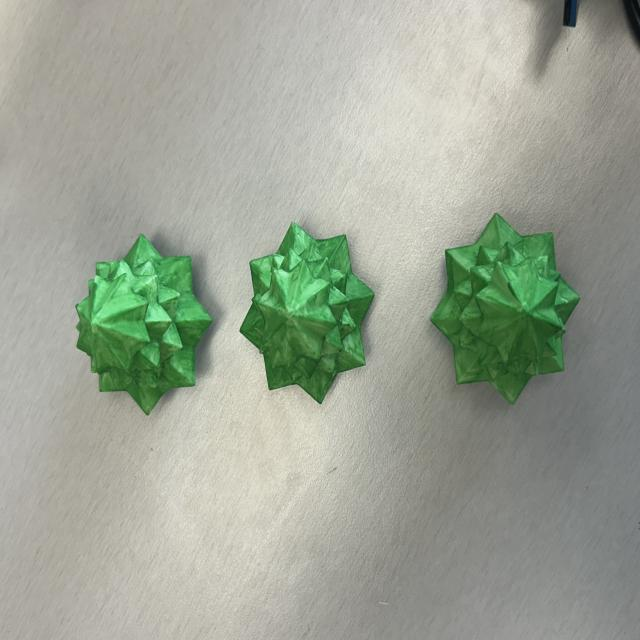tree: (430, 213, 582, 410), (74, 234, 214, 416), (240, 220, 375, 406)
